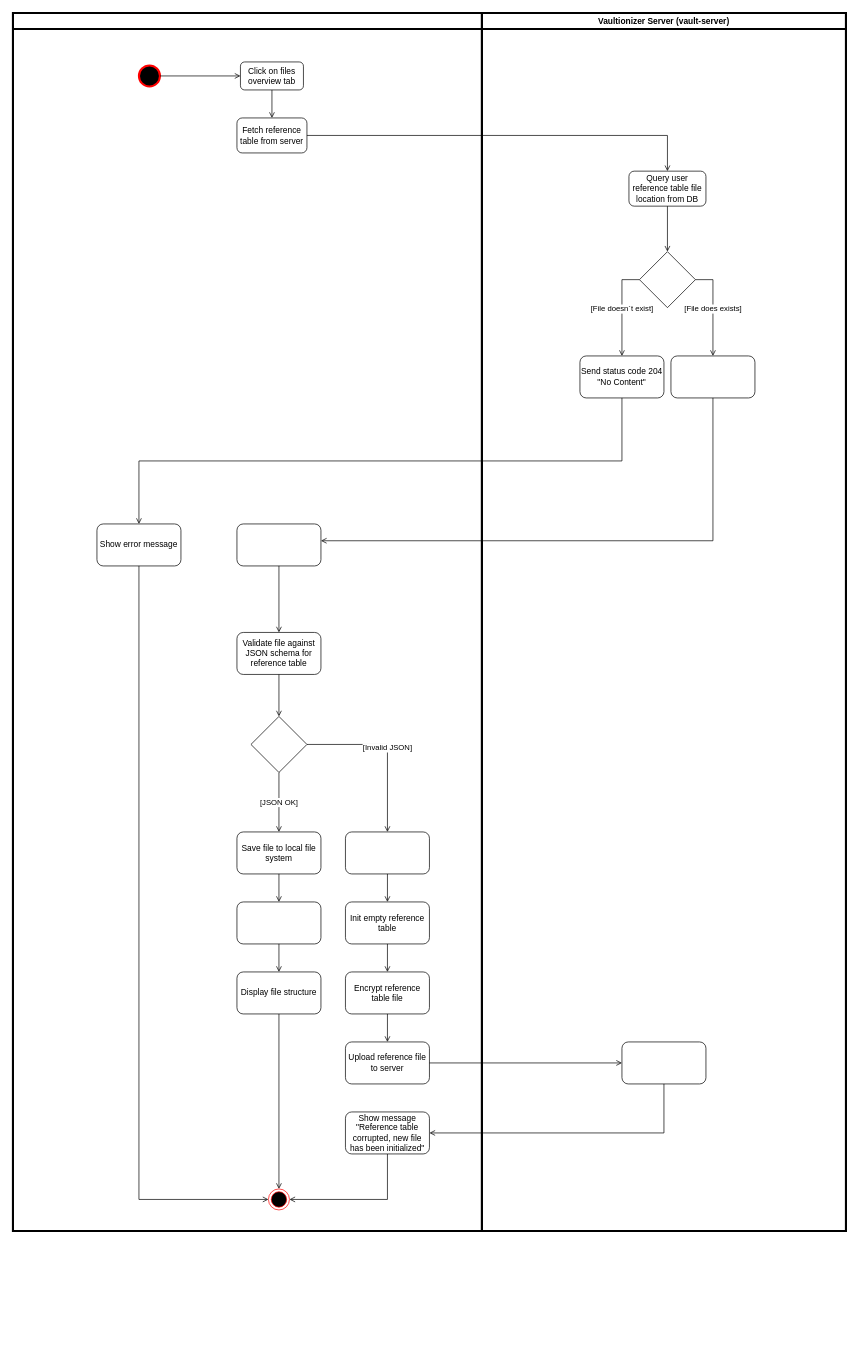
This 859x1362 diagram has some shape labels left out. The box of each missing label's shape, as (x1, y1, x2, y2) in pixels:
Decrypt reference table: (236, 523, 321, 566)
Delete reference file: (345, 831, 429, 874)
Extract file metadata from JSON: (236, 901, 321, 944)
Save file to user space: (621, 1041, 706, 1084)
Send reference table: (670, 355, 755, 398)
Vaultionizer App (vault-android-app): (12, 12, 483, 1232)
